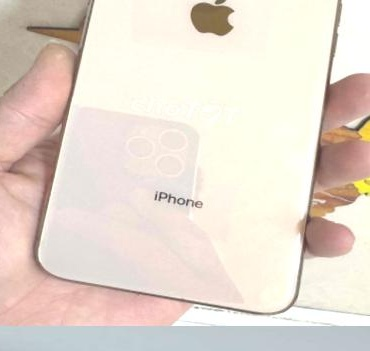scratch: (259, 283, 304, 315), (282, 240, 304, 258)
